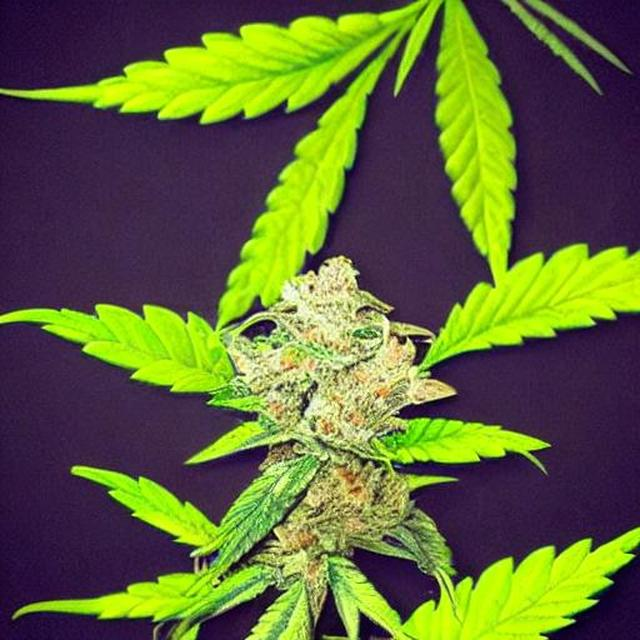Marijuana Plant: (0, 50, 517, 601)
